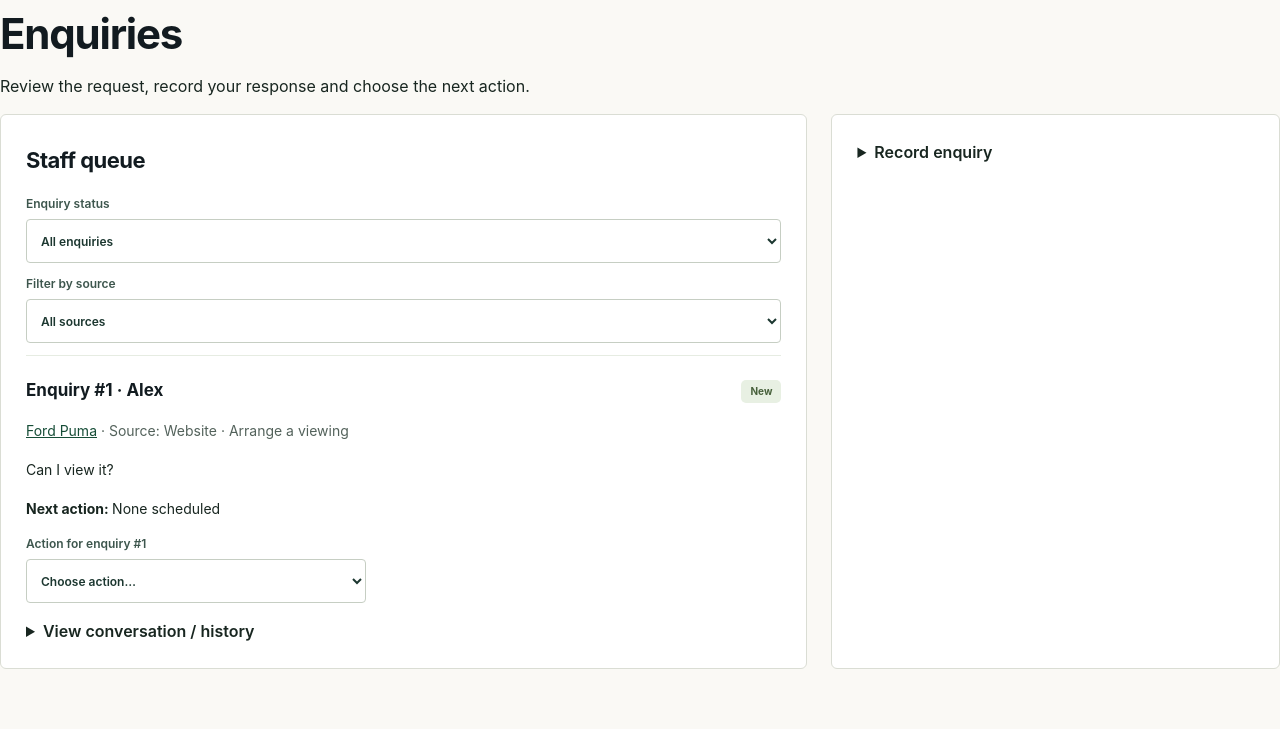
Scenario: one action selector replaces simultaneous forms and history is collapsed
Check: the field labelled "Reply message" is not shown
Check: the field labelled "Contact outcome" is not shown
Step 1. Select "Reply by email" in the dropdown labelled "Action for enquiry #1" → {"x": 196, "y": 581}, box [26,559,366,603]
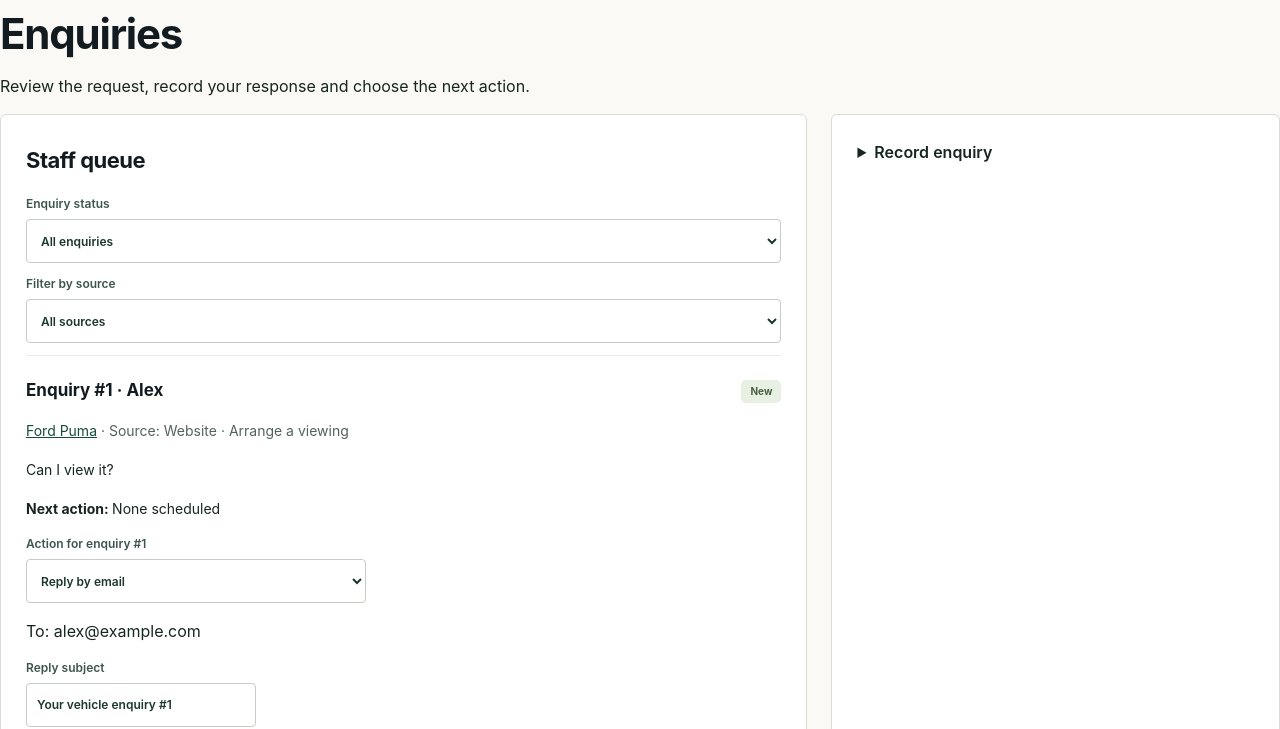
Check: the field labelled "Contact outcome" is not shown
Step 2. Select "Record a call / conversation" in the dropdown labelled "Action for enquiry #1" → {"x": 196, "y": 581}, box [26,559,366,603]
(page scrolled)
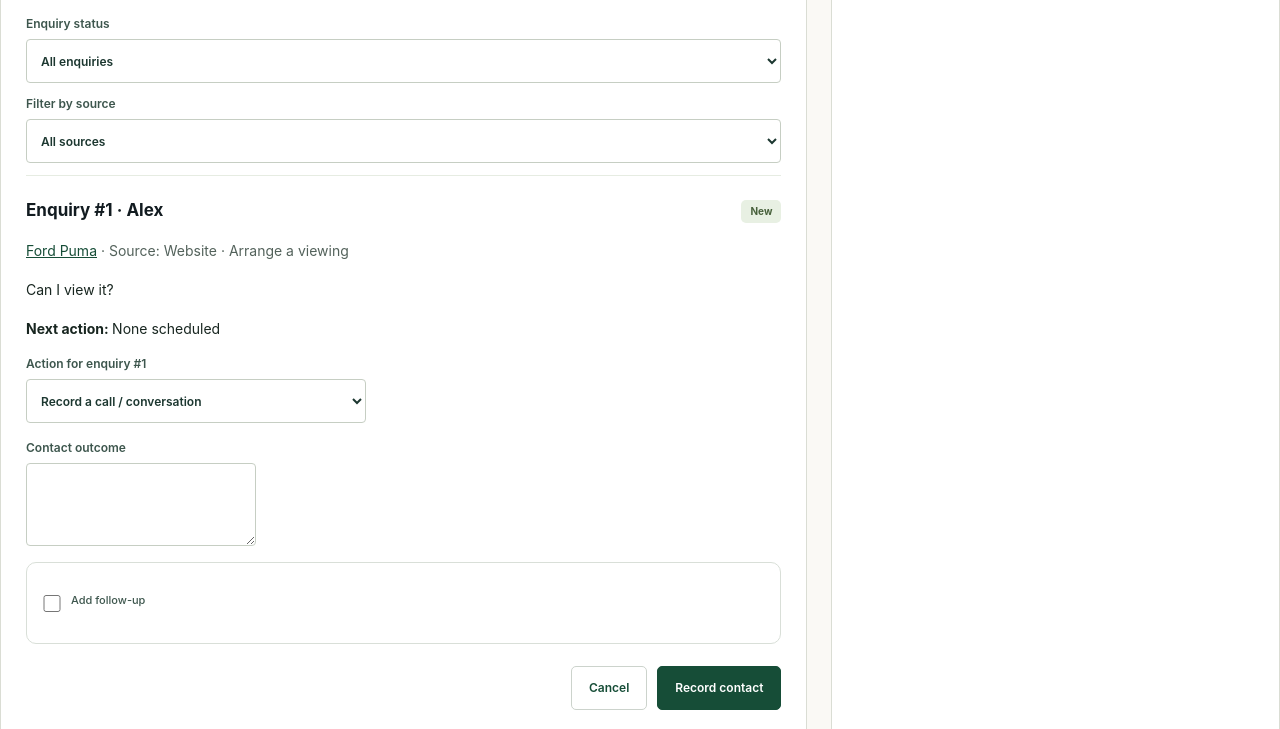
Check: the text box labelled "Contact outcome" is shown, box [26,463,256,546]
Step 3. Click the button "Cancel" → {"x": 609, "y": 688}, box [571,666,647,710]
(page scrolled)
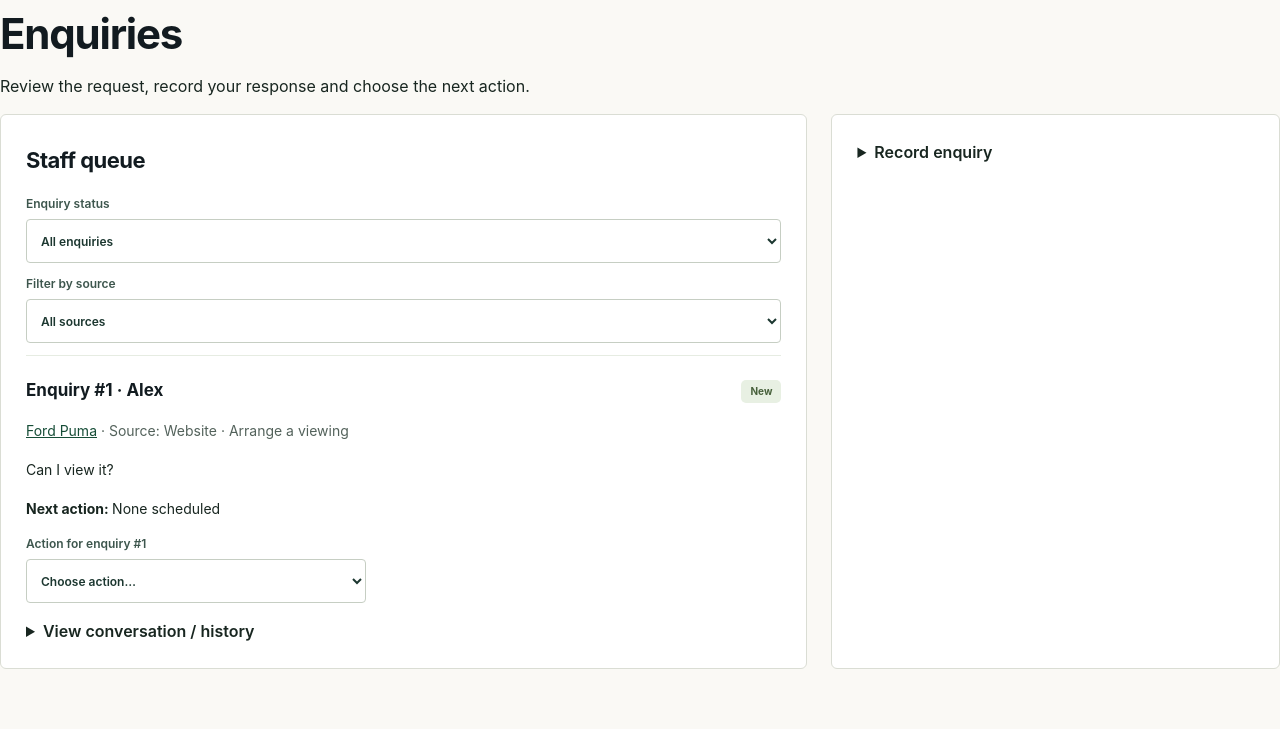
Step 4. Click the heading "View conversation / history" → {"x": 149, "y": 631}, box [43,621,254,641]
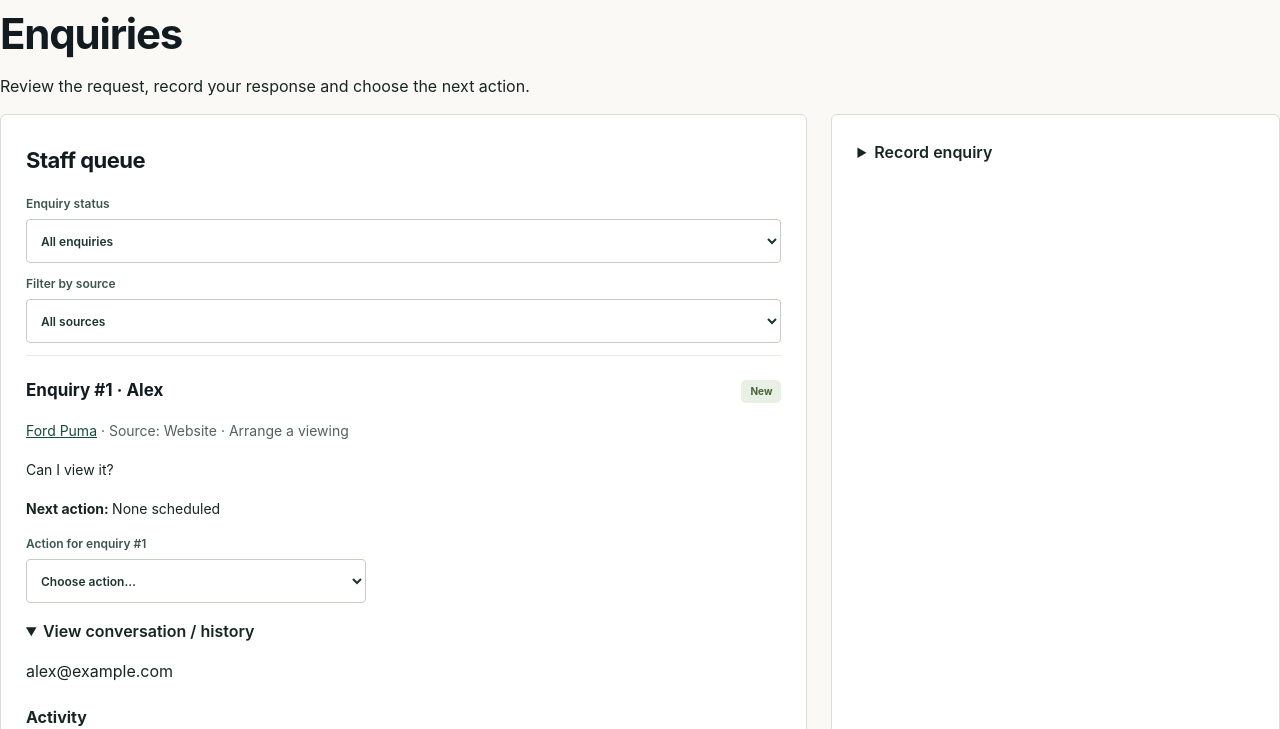
Check: the heading "Activity" is shown, box [26,707,87,727]
